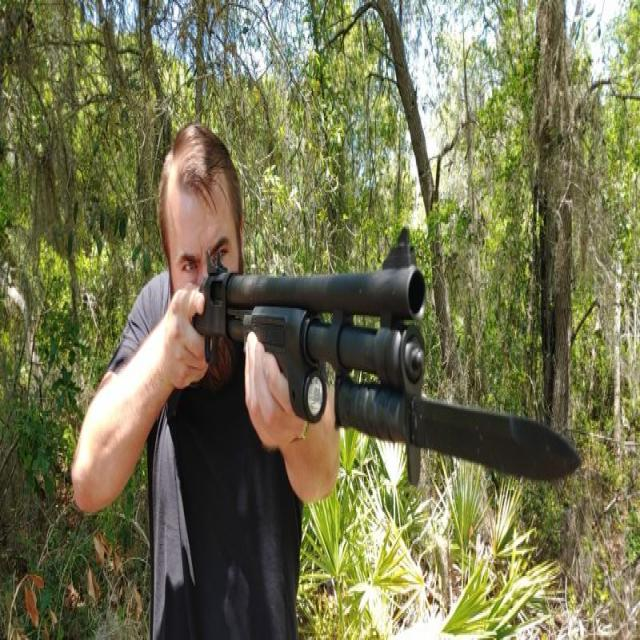Knife: (335, 377, 582, 487)
ShotGun: (193, 227, 427, 424)
